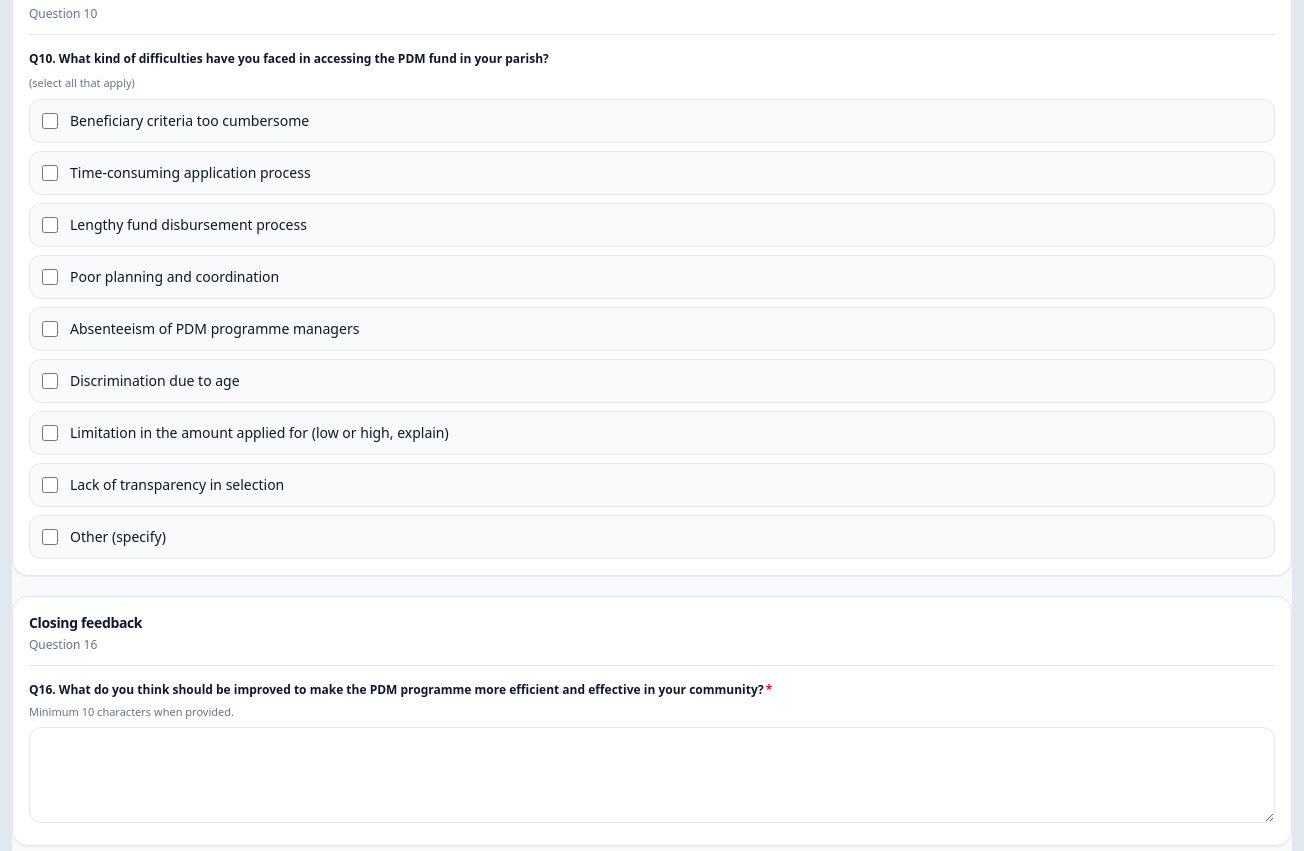
IypForm › limitation checkbox shows explanation field (TC-FORM-03-04)
The image size is (1304, 851).
(page scrolled)
Click the checkbox labelled "Limitation in the amount applied for (low or high, explain)".
click(50, 433)  # box [42, 425, 58, 441]
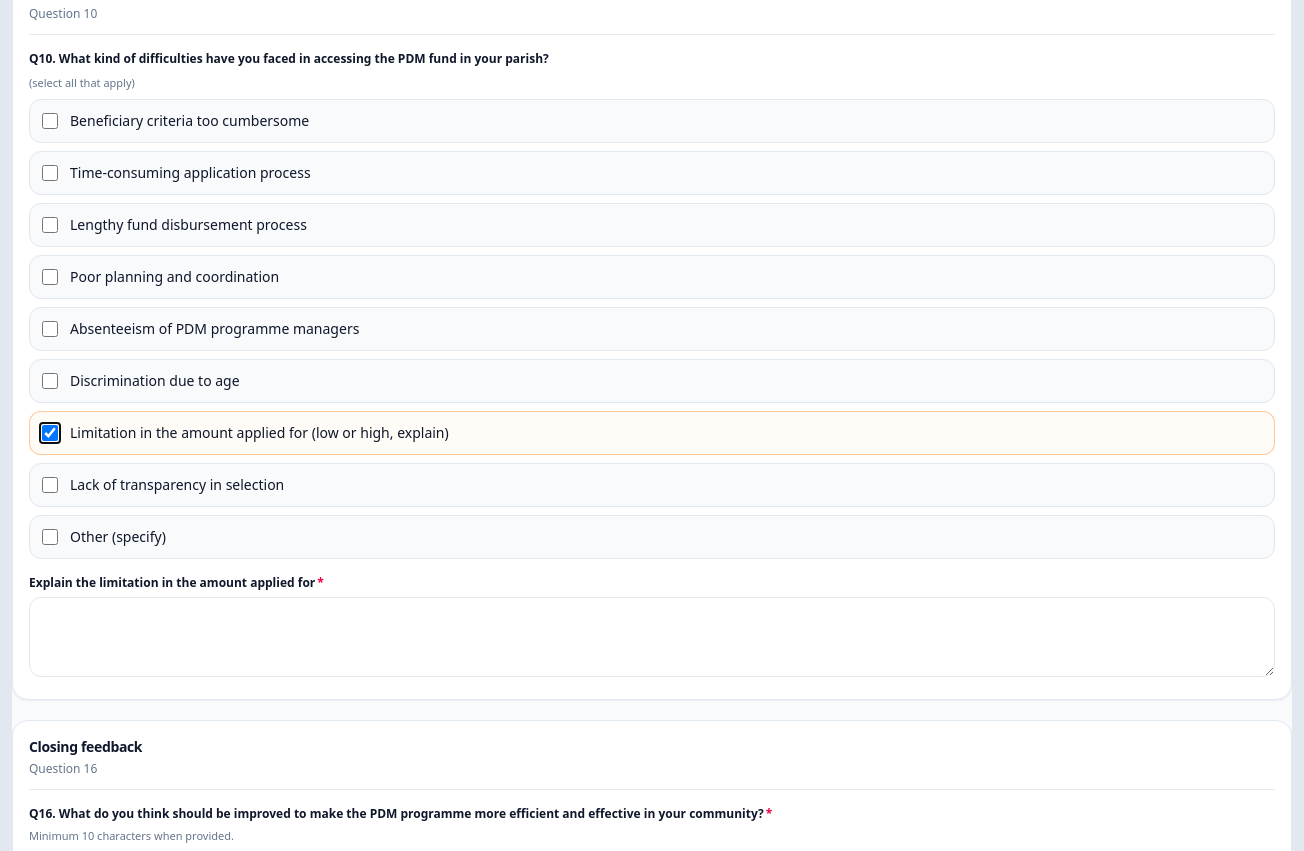
Result: the text box labelled "Explain the limitation in the amount applied for*" is shown at [29, 597, 1275, 677]
